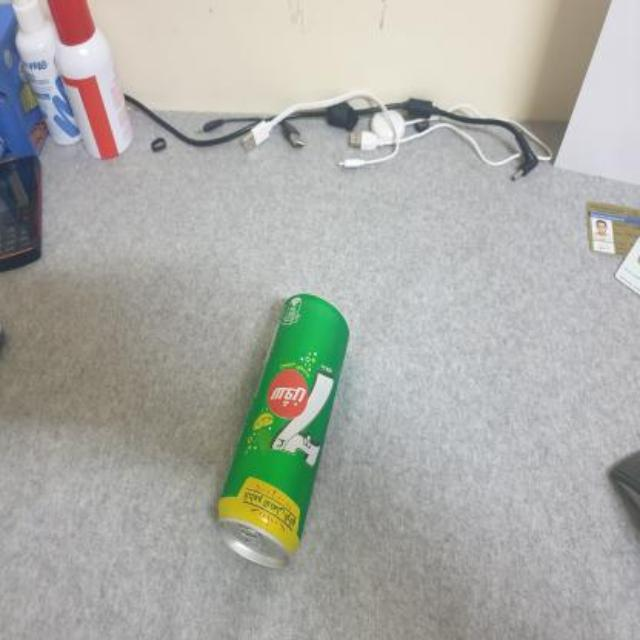metal: (218, 294, 348, 566)
